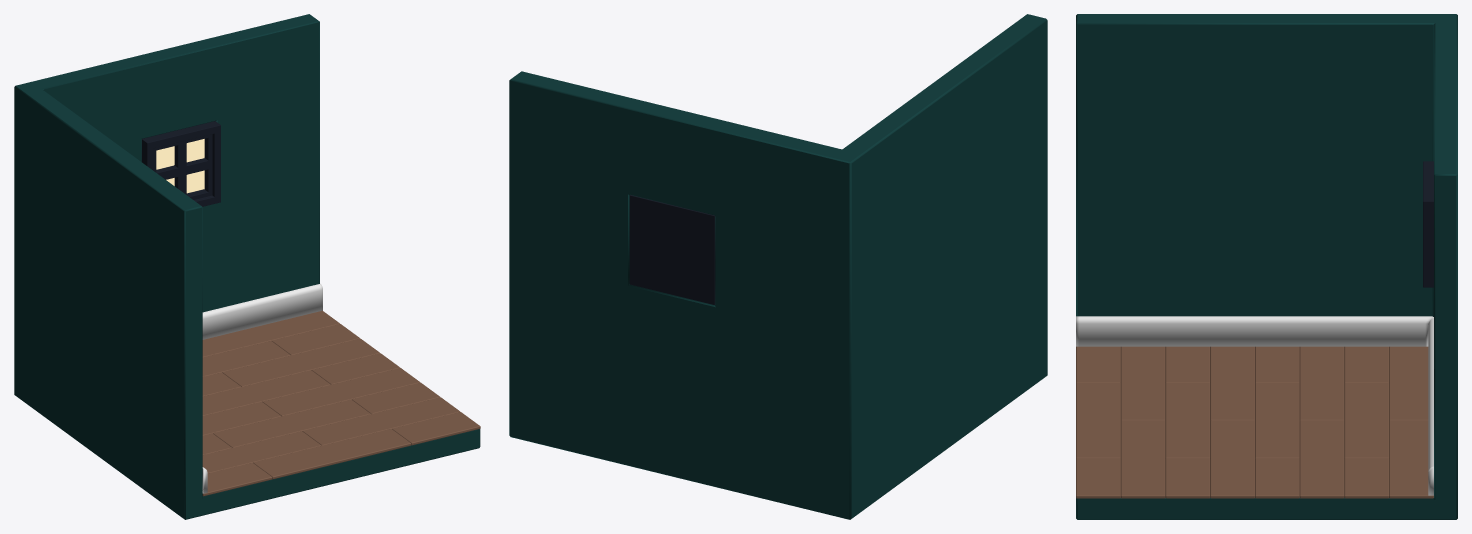
File: mini_room_set.glb
The picture shows the model from 3 angles, left to right: view 1: azimuth 30°, elevation 25°; view 2: azimuth 150°, elevation 25°; view 3: azimuth 270°, elevation 25°; orthographic projection. The views are drawn at different scales.
Parts seen in each view (by area): view 1: seams.001; view 2: seams.001; view 3: seams.001.
Boxes of the visible parts, box(x1,y1,x2,y2) form: seams.001: box(14, 14, 480, 519); seams.001: box(509, 14, 1047, 519); seams.001: box(1076, 14, 1457, 519).
Size of the model in its own units: 8 by 8 by 8.
